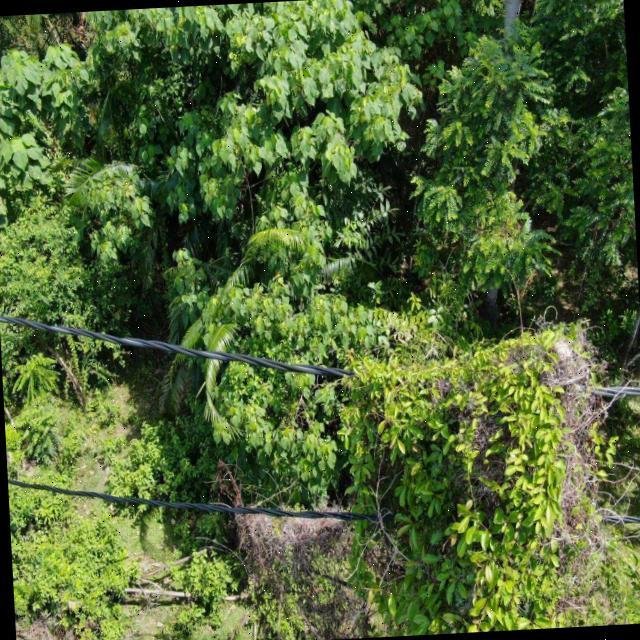critical vegetation: (332, 279, 622, 633)
